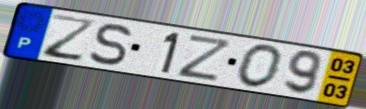1: (159, 31, 182, 76)
9: (281, 50, 325, 96)
O: (234, 42, 286, 90)
S: (86, 22, 134, 68)
Z: (176, 32, 236, 83), (41, 13, 99, 64)
